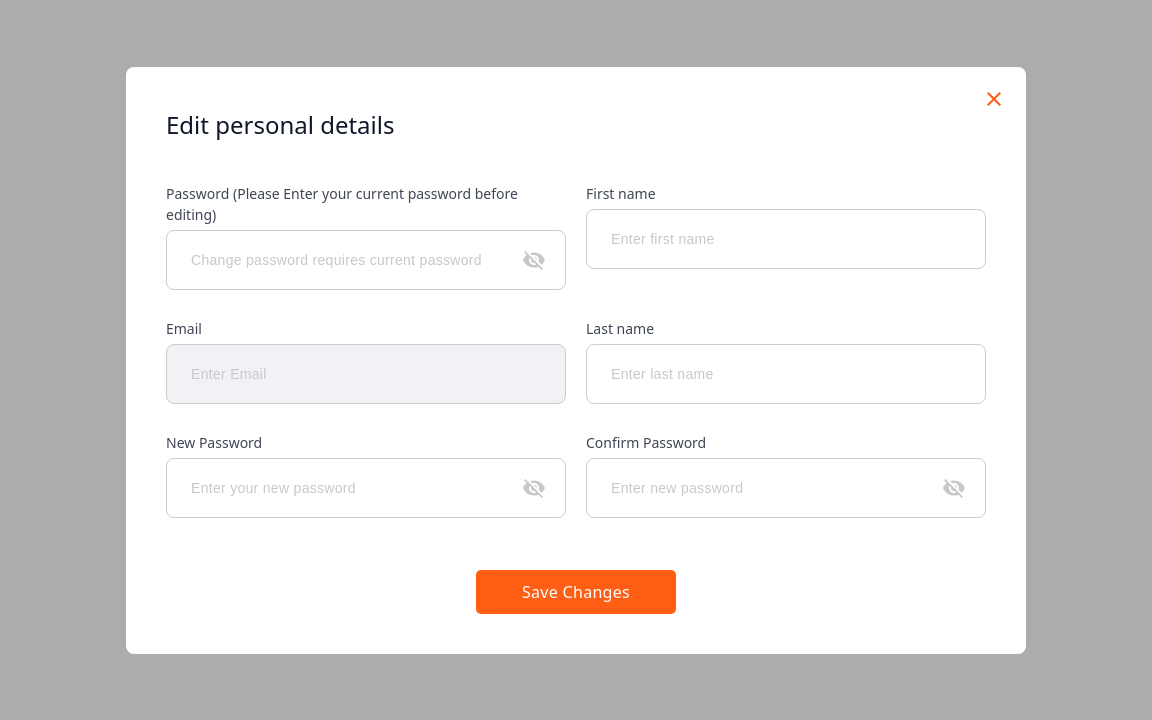
Test: EditAccount Component › shows validation error for mismatched confirm password
Type "OldPass123@" into the password field with placeholder "Change password requires current password". click: (366, 260)
box: [166,230,566,290]
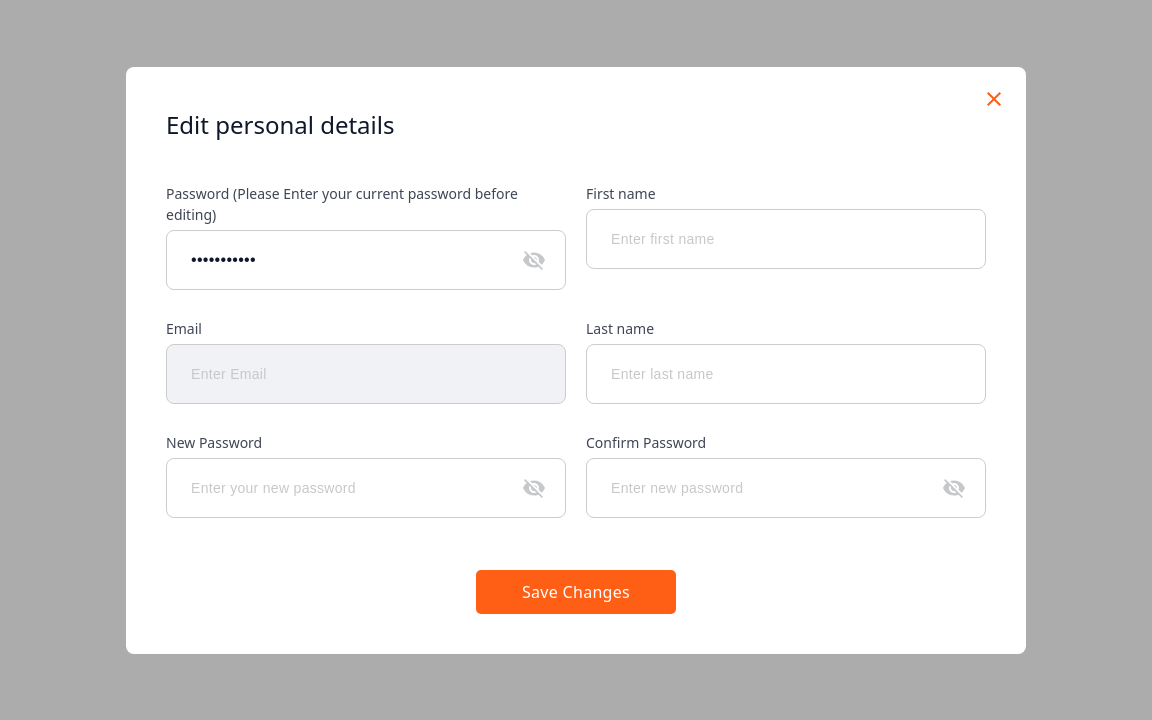
Type "NewPass123" into the password field with placeholder "Enter your new password". click: (366, 488)
box: [166,458,566,518]
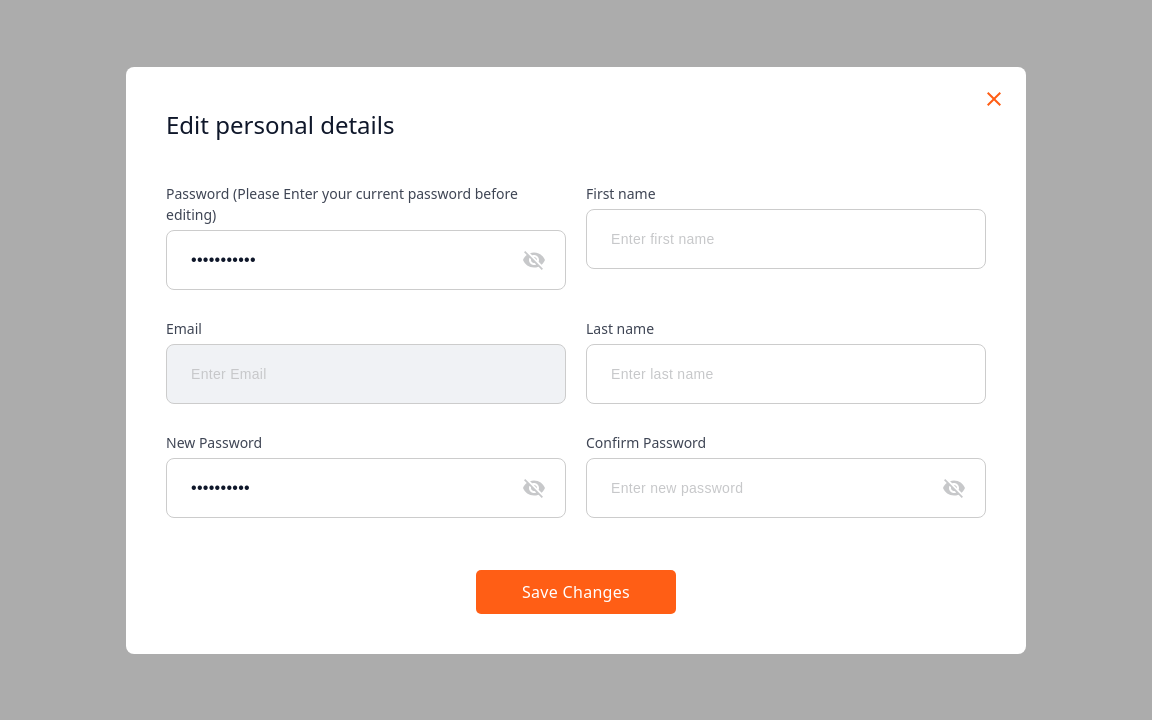
Type "WrongPass" into the password field with placeholder "Enter new password". click: (786, 488)
box: [586,458,986,518]
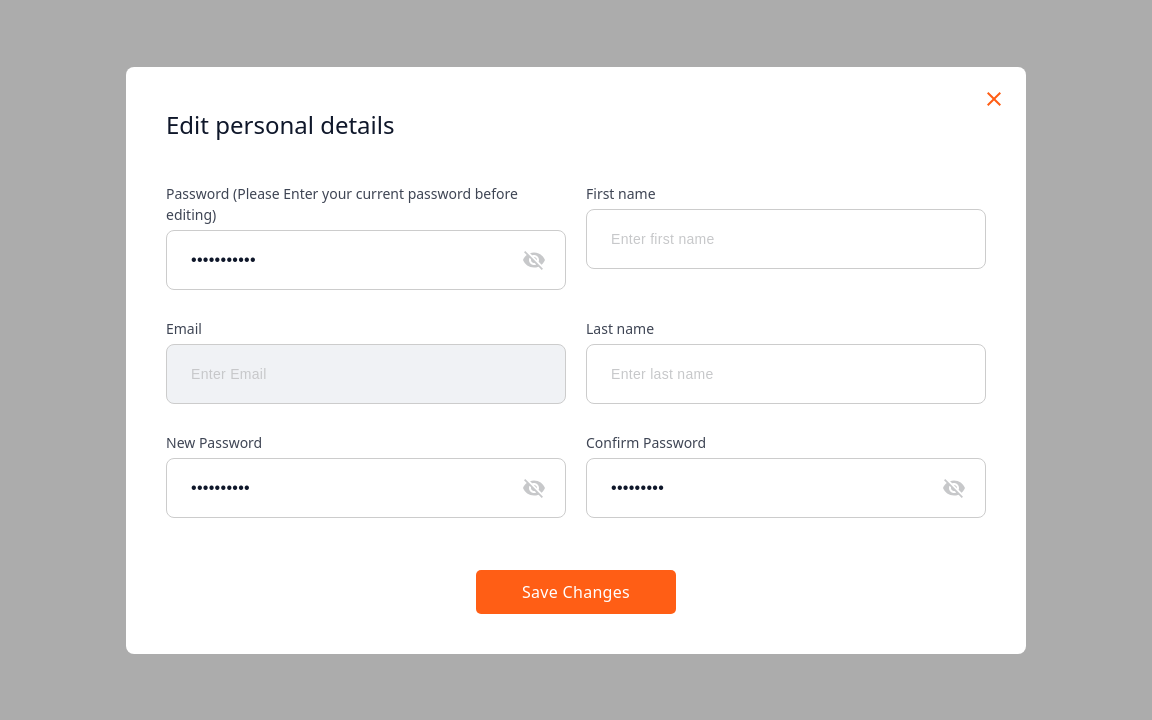
Click the button "Save changes". click: (576, 592)
box: [476,570,676,614]
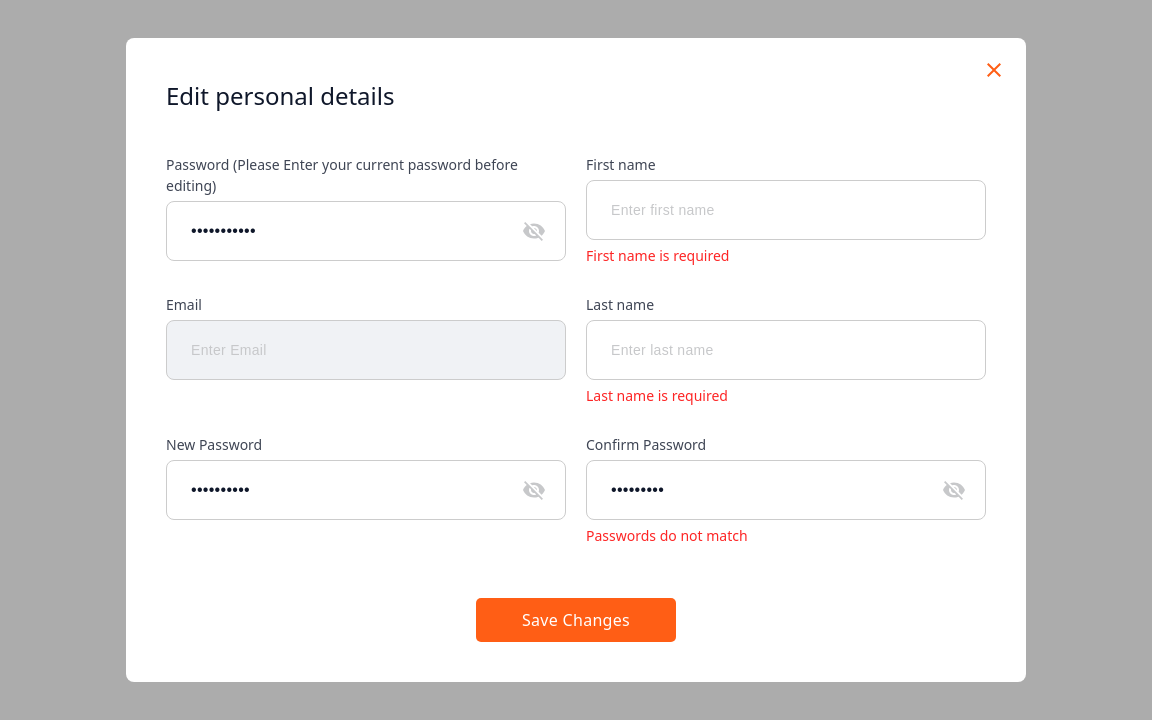
Now the text "Passwords do not match" is shown, box [586,526,748,545]
